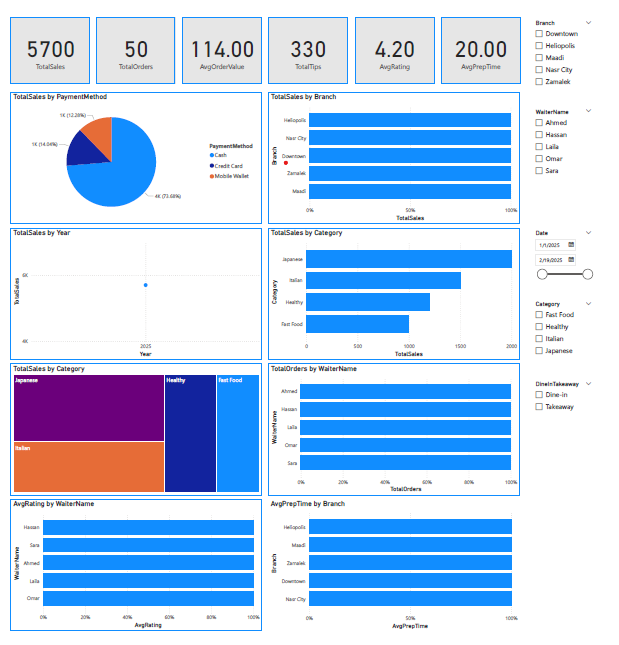

The dashboard page shown, as its layout file describes it:
{"tool":"powerbi","page":{"name":"Page 1","canvas":[1450,1500],"ordinal":0},"visuals":[{"type":"card","fields":{"Values":["restaurant_data_cleaned.TotalSales"]},"box":[9,18,190,158.4],"z":0},{"type":"card","fields":{"Values":["restaurant_data_cleaned.TotalOrders"]},"box":[215,18.4,189.2,158],"z":1000},{"type":"card","fields":{"Values":["restaurant_data_cleaned.AvgOrderValue"]},"box":[420.7,18.4,191.1,158],"z":2000},{"type":"card","fields":{"Values":["restaurant_data_cleaned.TotalTips"]},"box":[628.3,18.4,191.1,158],"z":3000},{"type":"card","fields":{"Values":["restaurant_data_cleaned.AvgRating"]},"box":[836,18.4,191.1,158],"z":4000},{"type":"card","fields":{"Values":["restaurant_data_cleaned.AvgPrepTime"]},"box":[1043.6,18.4,189.2,158],"z":5000},{"type":"pieChart","fields":{"Category":["restaurant_data_cleaned.PaymentMethod"],"Y":["restaurant_data_cleaned.TotalSales"]},"box":[9.2,196.6,602.6,316],"z":6000},{"type":"hundredPercentStackedBarChart","fields":{"Y":["restaurant_data_cleaned.TotalSales"],"Category":["restaurant_data_cleaned.Branch"]},"box":[628.3,196.6,602.6,316],"z":7000},{"type":"lineChart","fields":{"Category":["DateTable.Date.Variation.Date Hierarchy.Year","DateTable.Date.Variation.Date Hierarchy.Quarter","DateTable.Date.Variation.Date Hierarchy.Month","DateTable.Date.Variation.Date Hierarchy.Day"],"Y":["restaurant_data_cleaned.TotalSales"]},"box":[9,523,603,316],"z":8000},{"type":"barChart","fields":{"Category":["restaurant_data_cleaned.Category"],"Y":["restaurant_data_cleaned.TotalSales"]},"box":[628,523,603,316],"z":9000},{"type":"treemap","fields":{"Group":["restaurant_data_cleaned.Category"],"Values":["restaurant_data_cleaned.TotalSales"]},"box":[9,849,603,316],"z":10000},{"type":"hundredPercentStackedBarChart","fields":{"Y":["restaurant_data_cleaned.TotalOrders"],"Category":["restaurant_data_cleaned.WaiterName"]},"box":[628,849,603,316],"z":11000},{"type":"hundredPercentStackedBarChart","fields":{"Category":["restaurant_data_cleaned.WaiterName"],"Y":["restaurant_data_cleaned.AvgRating"]},"box":[9,1175,603,316],"z":12000},{"type":"hundredPercentStackedBarChart","fields":{"Category":["restaurant_data_cleaned.Branch"],"Y":["restaurant_data_cleaned.AvgPrepTime"]},"box":[628,1175,603,316],"z":13000},{"type":"slicer","fields":{"Values":["restaurant_data_cleaned.Branch"]},"box":[1257,18,159,213],"z":14000},{"type":"slicer","fields":{"Values":["restaurant_data_cleaned.WaiterName"]},"box":[1257,231,159,210],"z":15000},{"type":"slicer","fields":{"Values":["DateTable.Date"]},"box":[1257,522,159,228],"z":16000},{"type":"slicer","fields":{"Values":["restaurant_data_cleaned.Category"]},"box":[1257,693,159,192],"z":17000},{"type":"slicer","fields":{"Values":["restaurant_data_cleaned.DineInTakeaway"]},"box":[1257,885,159,123],"z":18000}]}

Visuals, with their boxes in screenshot pixels (x1, y1, x2, y2):
card - restaurant_data_cleaned.TotalSales: (12,24,89,89)
card - restaurant_data_cleaned.TotalOrders: (96,24,173,89)
card - restaurant_data_cleaned.AvgOrderValue: (179,24,257,89)
card - restaurant_data_cleaned.TotalTips: (264,24,342,89)
card - restaurant_data_cleaned.AvgRating: (348,24,426,89)
card - restaurant_data_cleaned.AvgPrepTime: (433,24,510,89)
pieChart - restaurant_data_cleaned.PaymentMethod x restaurant_data_cleaned.TotalSales: (12,97,257,225)
hundredPercentStackedBarChart - restaurant_data_cleaned.TotalSales x restaurant_data_cleaned.Branch: (264,97,509,225)
lineChart - DateTable.Date.Variation.Date Hierarchy.Year x DateTable.Date.Variation.Date Hierarchy.Quarter: (12,229,257,358)
barChart - restaurant_data_cleaned.Category x restaurant_data_cleaned.TotalSales: (264,229,509,358)
treemap - restaurant_data_cleaned.Category x restaurant_data_cleaned.TotalSales: (12,362,257,490)
hundredPercentStackedBarChart - restaurant_data_cleaned.TotalOrders x restaurant_data_cleaned.WaiterName: (264,362,509,490)
hundredPercentStackedBarChart - restaurant_data_cleaned.WaiterName x restaurant_data_cleaned.AvgRating: (12,495,257,623)
hundredPercentStackedBarChart - restaurant_data_cleaned.Branch x restaurant_data_cleaned.AvgPrepTime: (264,495,509,623)
slicer - restaurant_data_cleaned.Branch: (519,24,584,111)
slicer - restaurant_data_cleaned.WaiterName: (519,111,584,196)
slicer - DateTable.Date: (519,229,584,322)
slicer - restaurant_data_cleaned.Category: (519,299,584,377)
slicer - restaurant_data_cleaned.DineInTakeaway: (519,377,584,427)
